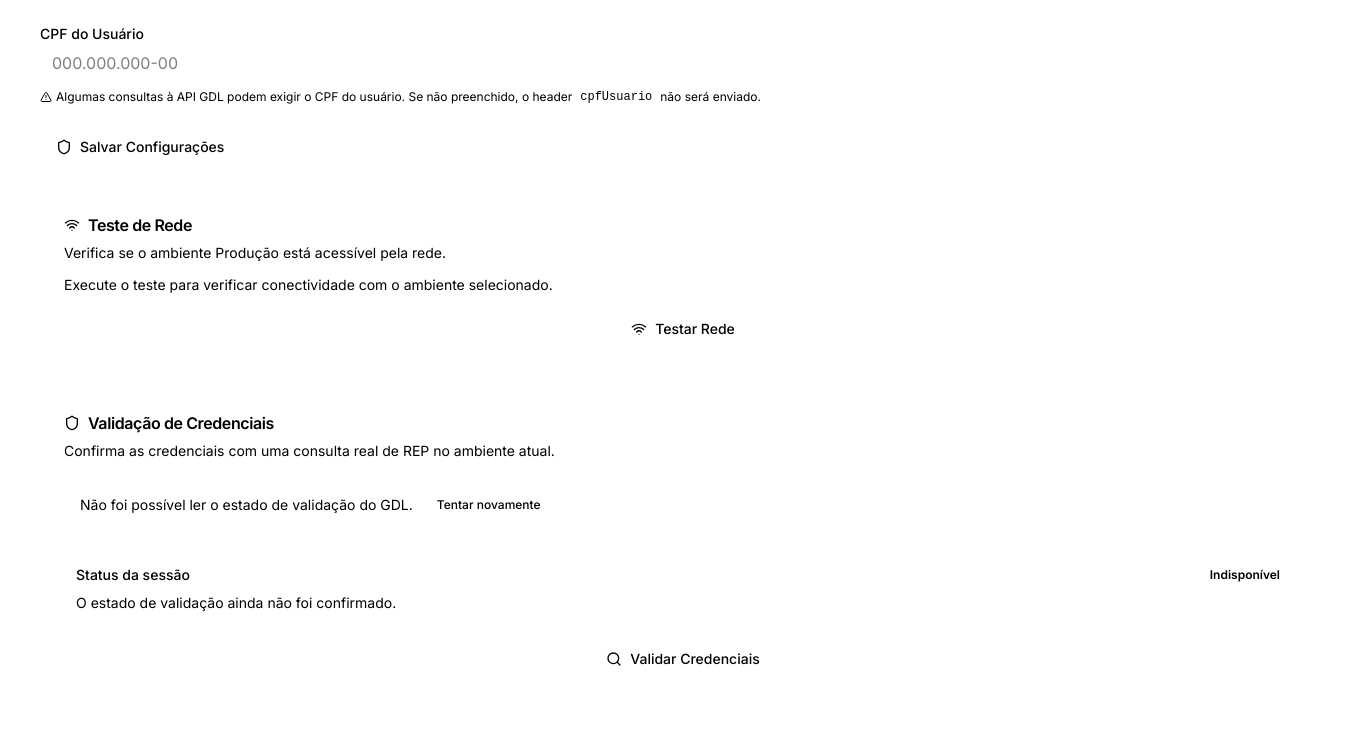
Test: GdlConfigPage › distingue falha de leitura da validação de sessão e recupera por nova tentativa
(page scrolled)
Check: the text "Não foi possível ler o estado de validação do GDL." is shown, box x1=80 y1=496 x2=413 y2=513
Check: the text "Indisponível" is shown, box x1=1210 y1=567 x2=1280 y2=582
Step 1. Click the button "Tentar novamente" → (489, 505), box x1=425 y1=489 x2=553 y2=521
(page scrolled)
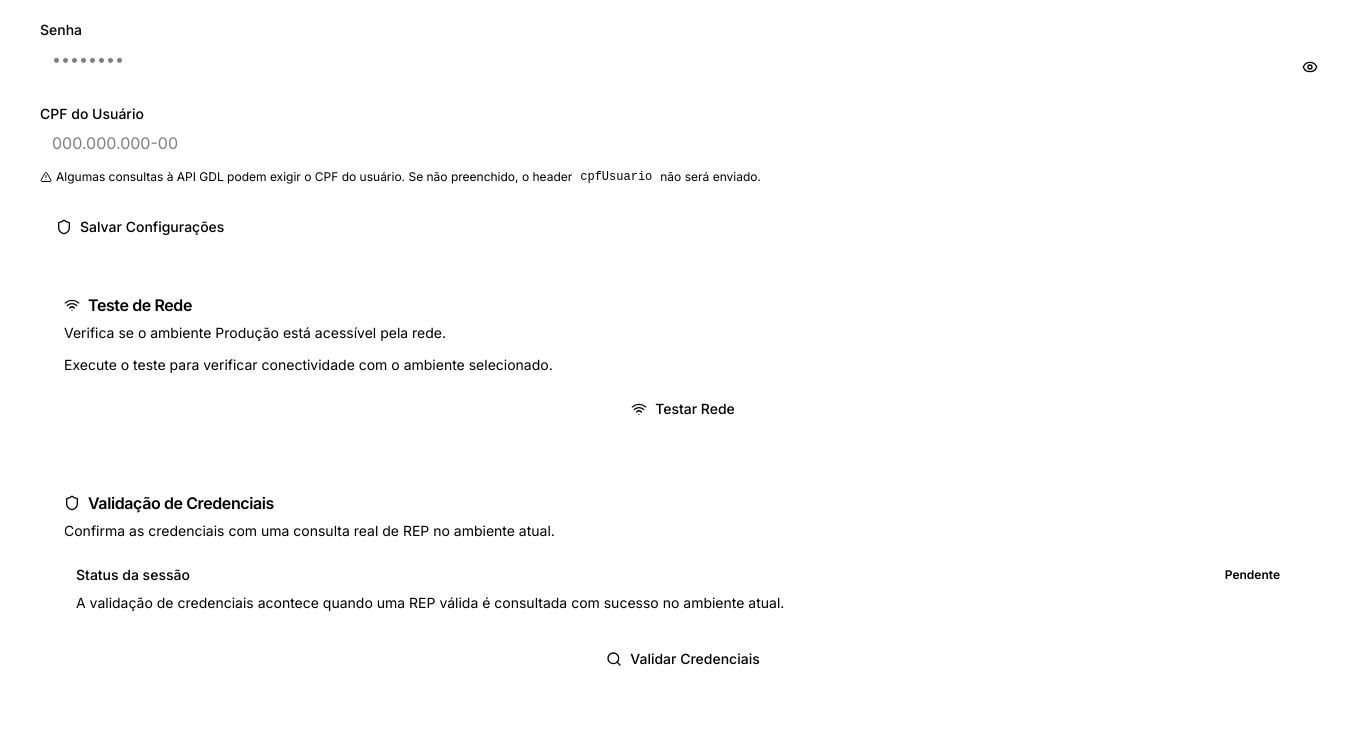
Check: the button "Validar Credenciais" is enabled, box x1=64 y1=641 x2=1302 y2=677
Check: the text "Pendente" is shown, box x1=1225 y1=567 x2=1280 y2=582
